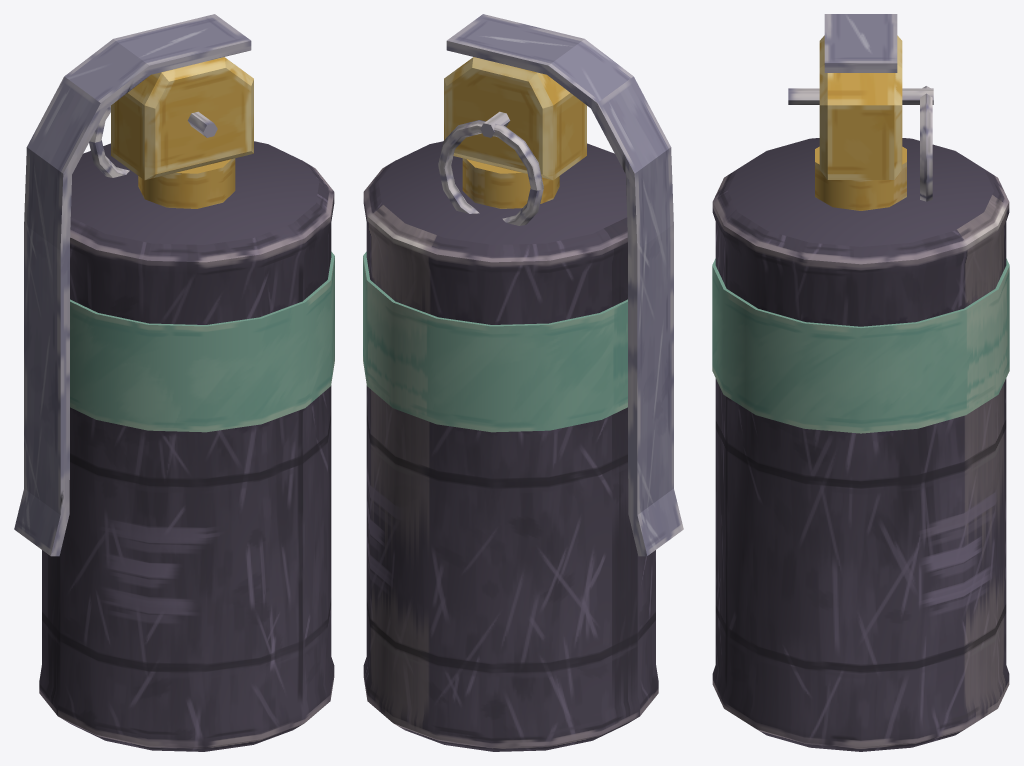
The model's file is smoke.fbx.
3 renders of one model, left to right at view 1: azimuth 30°, elevation 25°; view 2: azimuth 150°, elevation 25°; view 3: azimuth 270°, elevation 25°, orthographic.
Visible parts, largest first — view 1: smoke; view 2: smoke; view 3: smoke.
Part boxes in pixels (left/top/right/bottom): smoke: left=14, top=14, right=334, bottom=751; smoke: left=363, top=14, right=683, bottom=751; smoke: left=712, top=14, right=1009, bottom=751.
Size of the model in its own units: 0.2526 by 0.5591 by 0.2303.
Materials: 1 (1 with a texture image).
